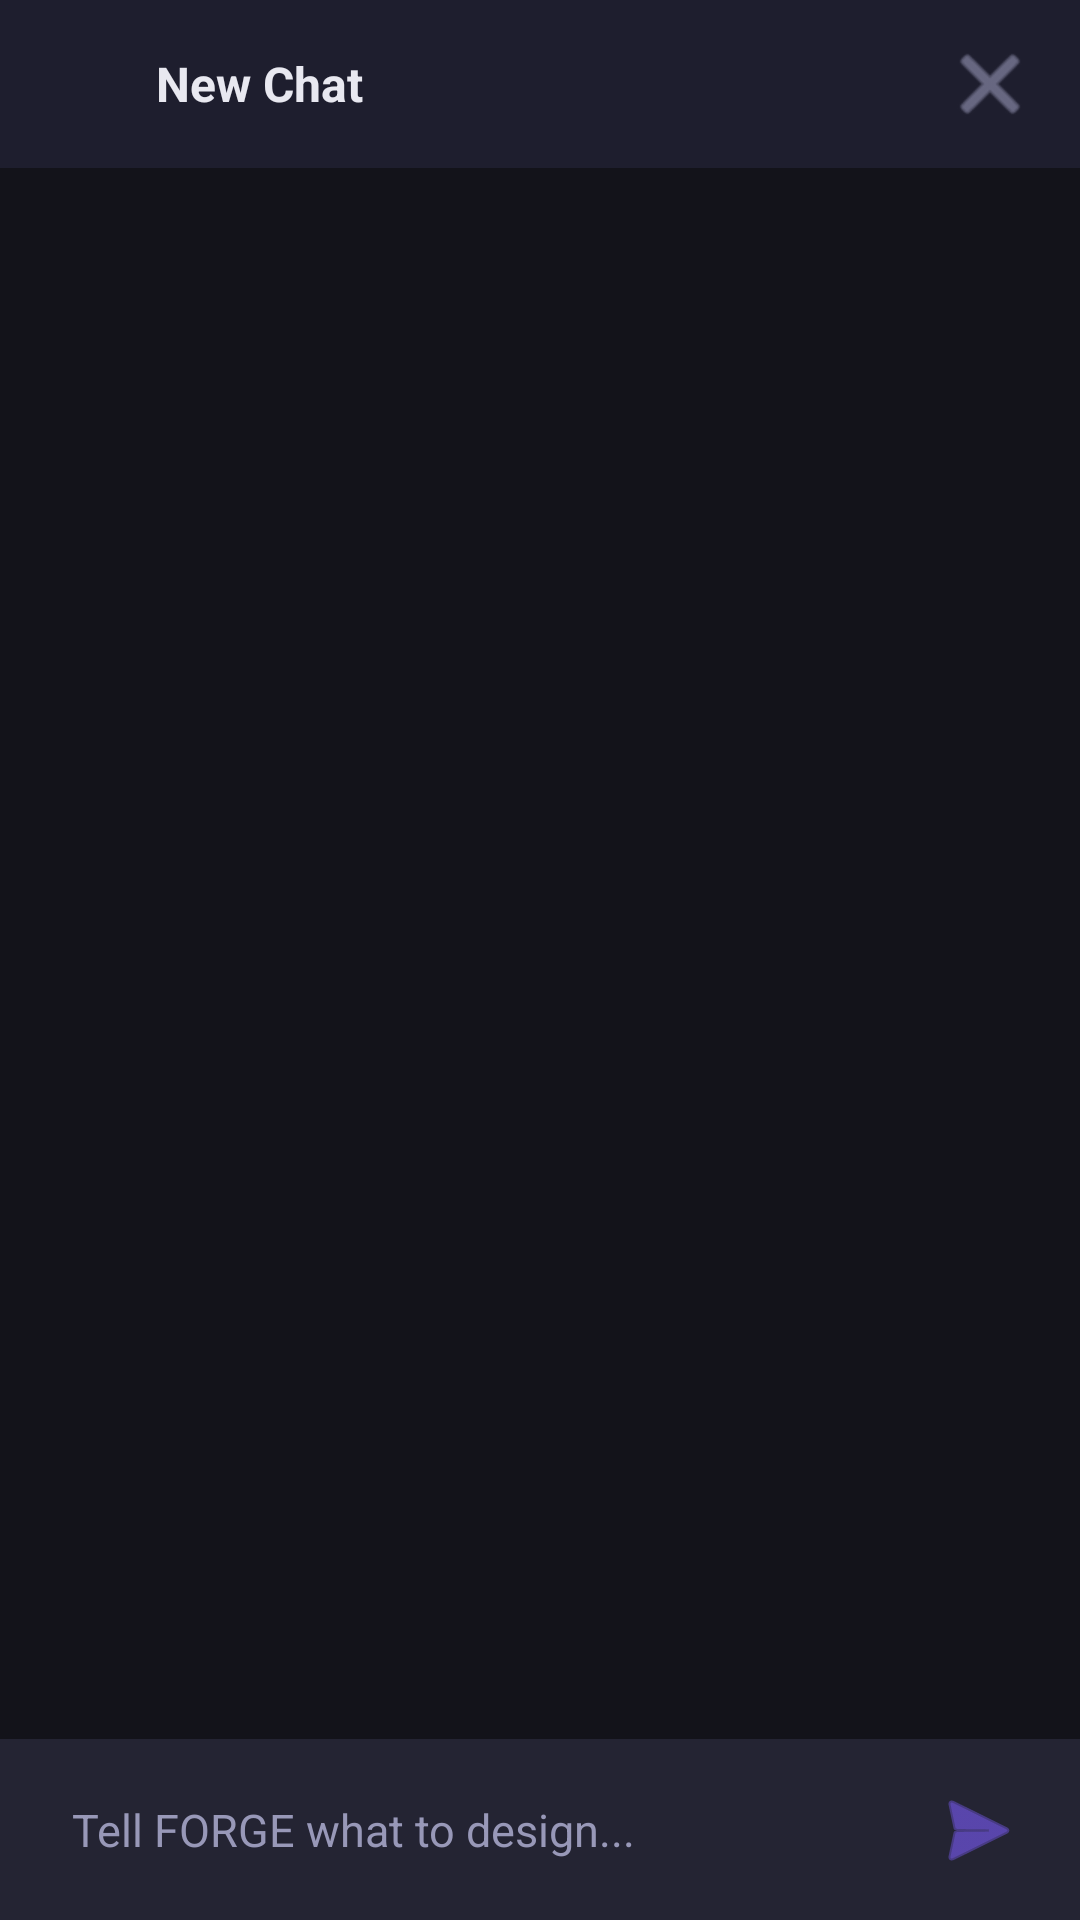

Icon bounding boxes for this 1080w x 1920h phone screenshot, format (x1, y1, x2, y2):
Send: (948, 1800, 1010, 1861)
